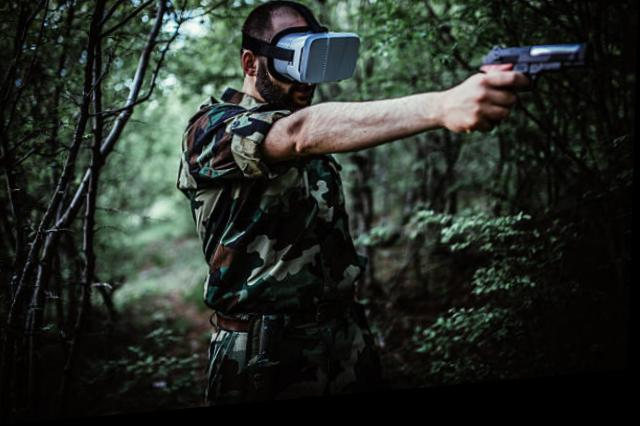other: (178, 5, 372, 402)
